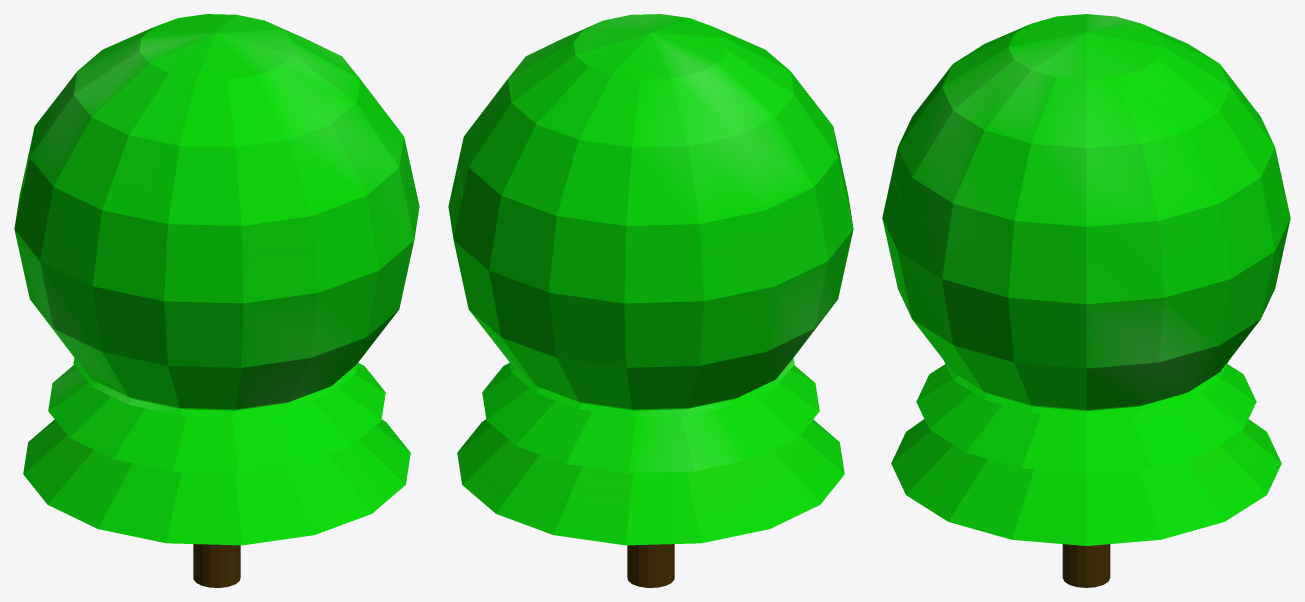
The model's file is Arvores.fbx.
3 views of the same model, side by side, from view 1: azimuth 30°, elevation 25°; view 2: azimuth 150°, elevation 25°; view 3: azimuth 270°, elevation 25° (orthographic).
Parts seen in each view (by area): view 1: Arvore2, Arvore1, Arvore3; view 2: Arvore2, Arvore1, Arvore3; view 3: Arvore2, Arvore1, Arvore3.
Part boxes in pixels (x1,y1,x2,y2): Arvore2: (14,14,419,410); Arvore1: (23,358,410,587); Arvore3: (23,154,410,587); Arvore2: (448,14,853,410); Arvore1: (457,358,844,587); Arvore3: (457,154,844,587); Arvore2: (882,14,1290,410); Arvore1: (891,361,1281,587); Arvore3: (892,179,1280,587).
Size of the model in its own units: 720 by 1060 by 720.
